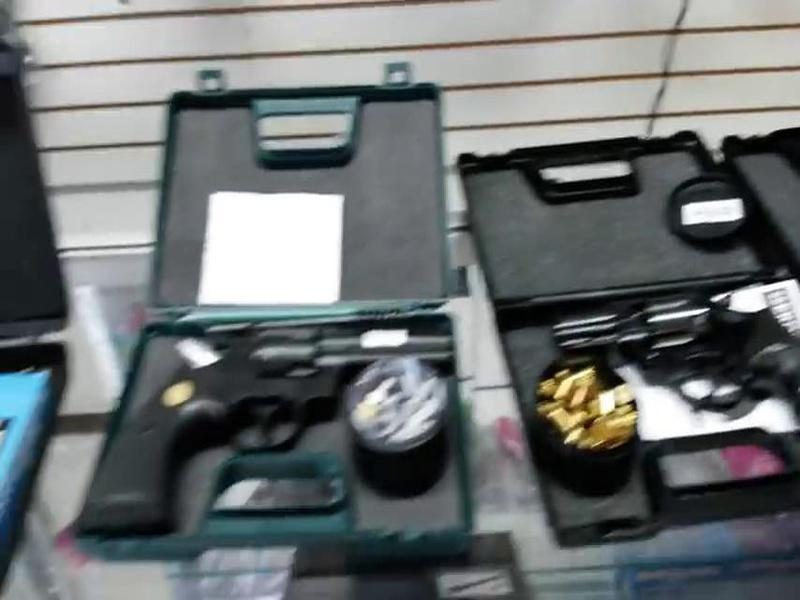Revolver: (85, 295, 475, 537)
